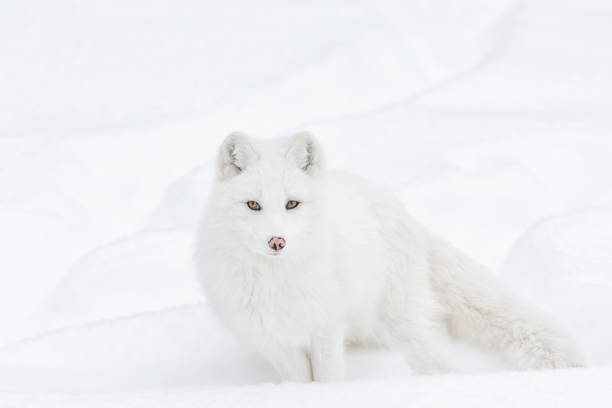arcticfox: (231, 170, 320, 276)
